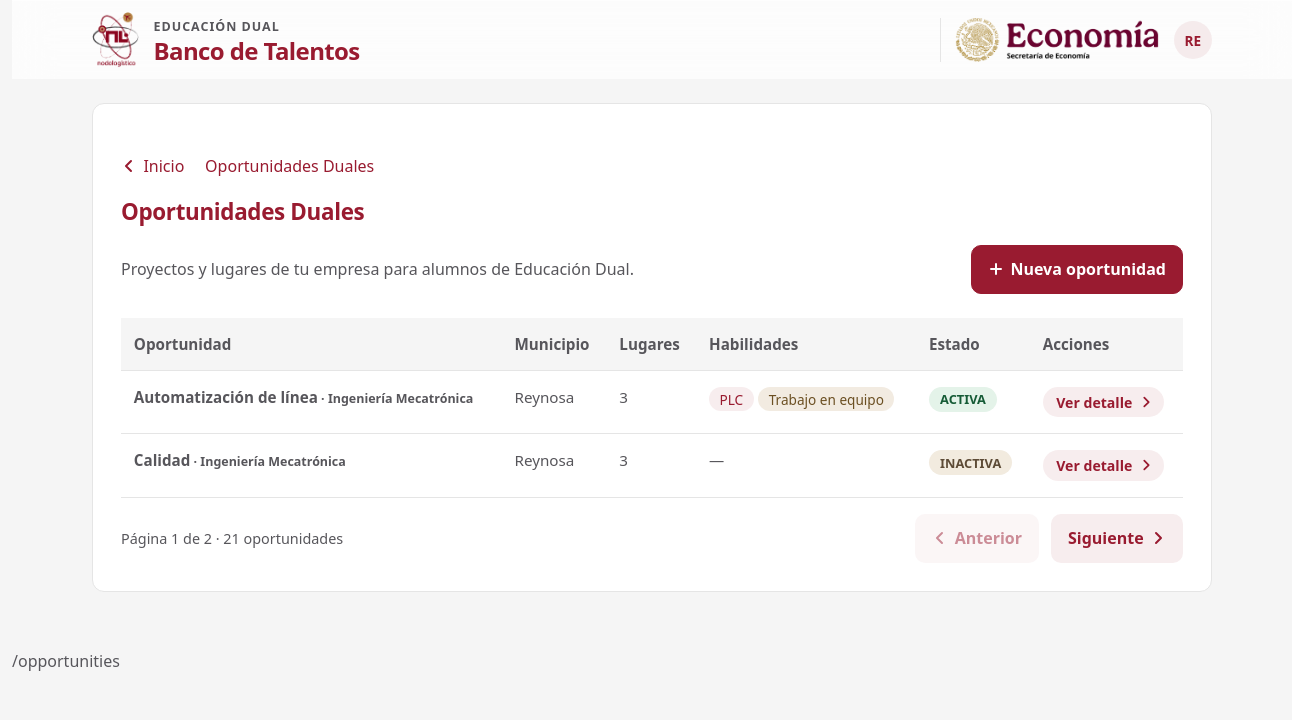
Scenario: oportunidades duales HU-S5-02 › lista título, carrera, municipio, lugares, estado y habilidades, y pagina (CA-06)
expect the text "· Ingeniería Mecatrónica" next to "Automatización de línea" is shown: met, box [328,390,473,407]
expect the text "Reynosa" in the row of "Automatización de línea" is shown: met, box [514,387,574,407]
Click the button "Siguiente" at [1117, 538], box [1051,514,1183,563]
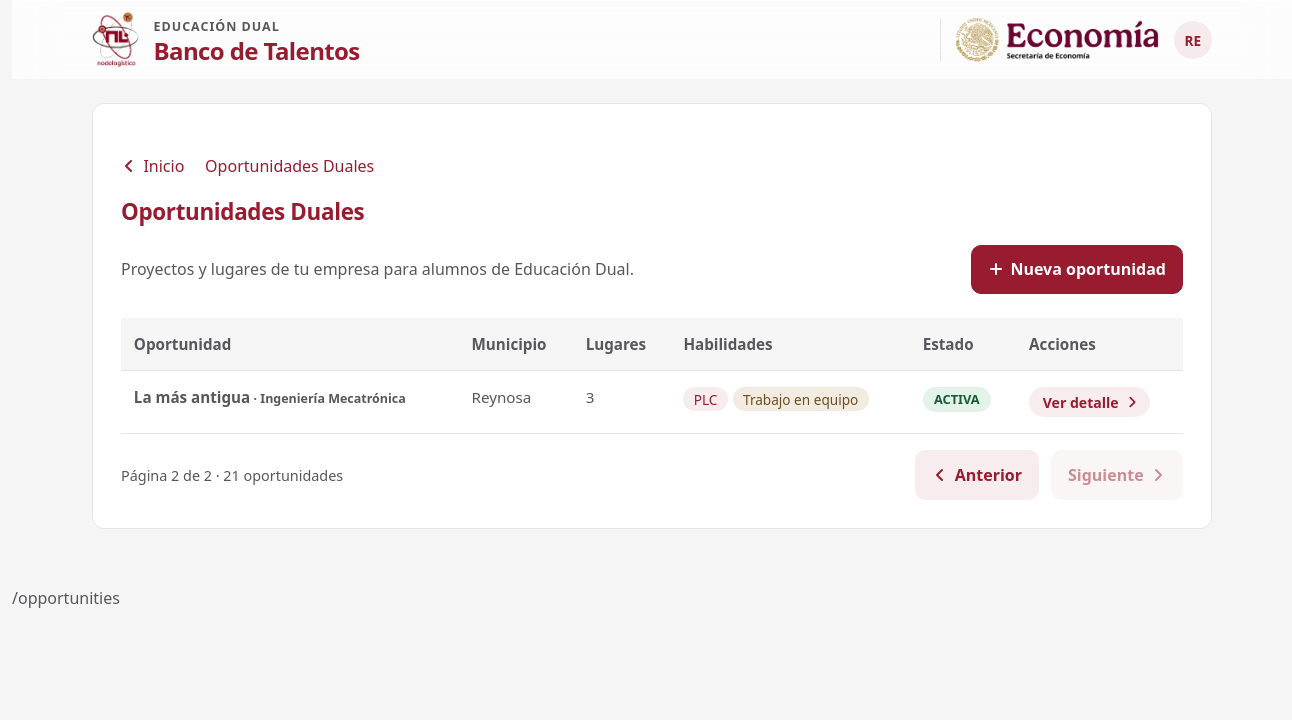
expect the column heading "La más antigua" is shown: met, box [134,387,250,407]
